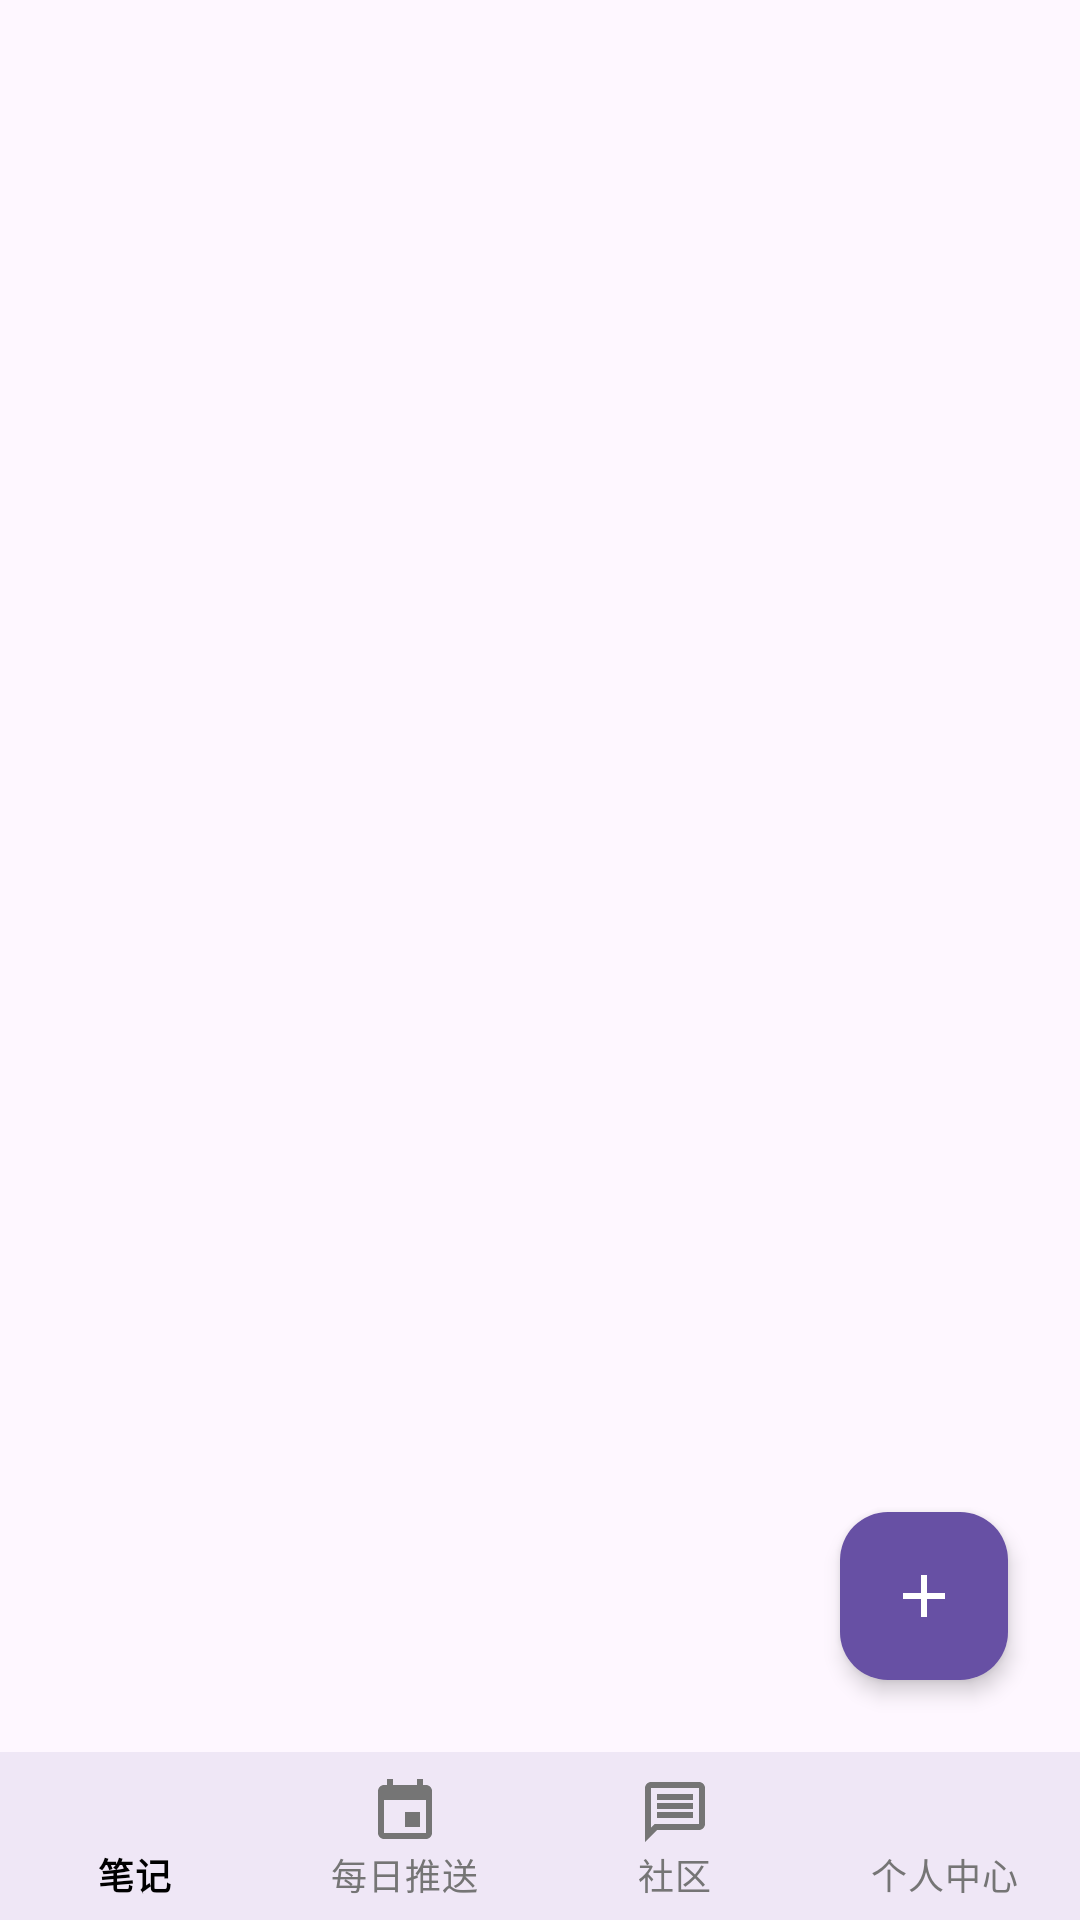

Icons on this 1080x1920 Android screen, each with its box as box=[x1, y1, x2, y2]:
添加笔记: box=[840, 1512, 1008, 1680]
